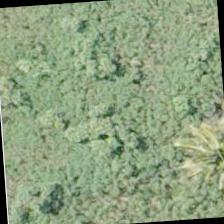Kelapa_Sawit: (165, 121, 223, 216)
